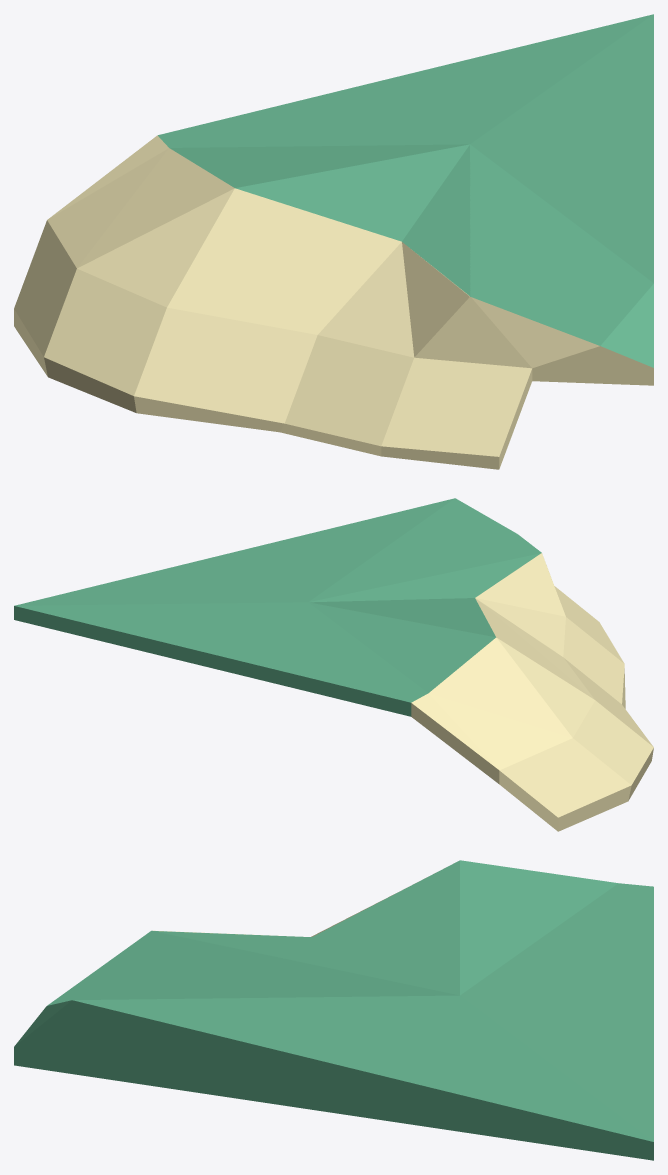
File: tile9.glb
3 renders of one model, top to bottom at view 1: azimuth 30°, elevation 25°; view 2: azimuth 150°, elevation 25°; view 3: azimuth 270°, elevation 25°, orthographic. The views are drawn at different scales.
Visible parts, largest first — view 1: ground.006; view 2: ground.006; view 3: ground.006.
Boxes of the visible parts, box(x1,y1,x2,y2) form: ground.006: box(14, 14, 653, 469); ground.006: box(14, 498, 653, 831); ground.006: box(14, 860, 653, 1160).
Bounding box in the file's own units: 0.6263 × 0.1335 × 0.4763.
